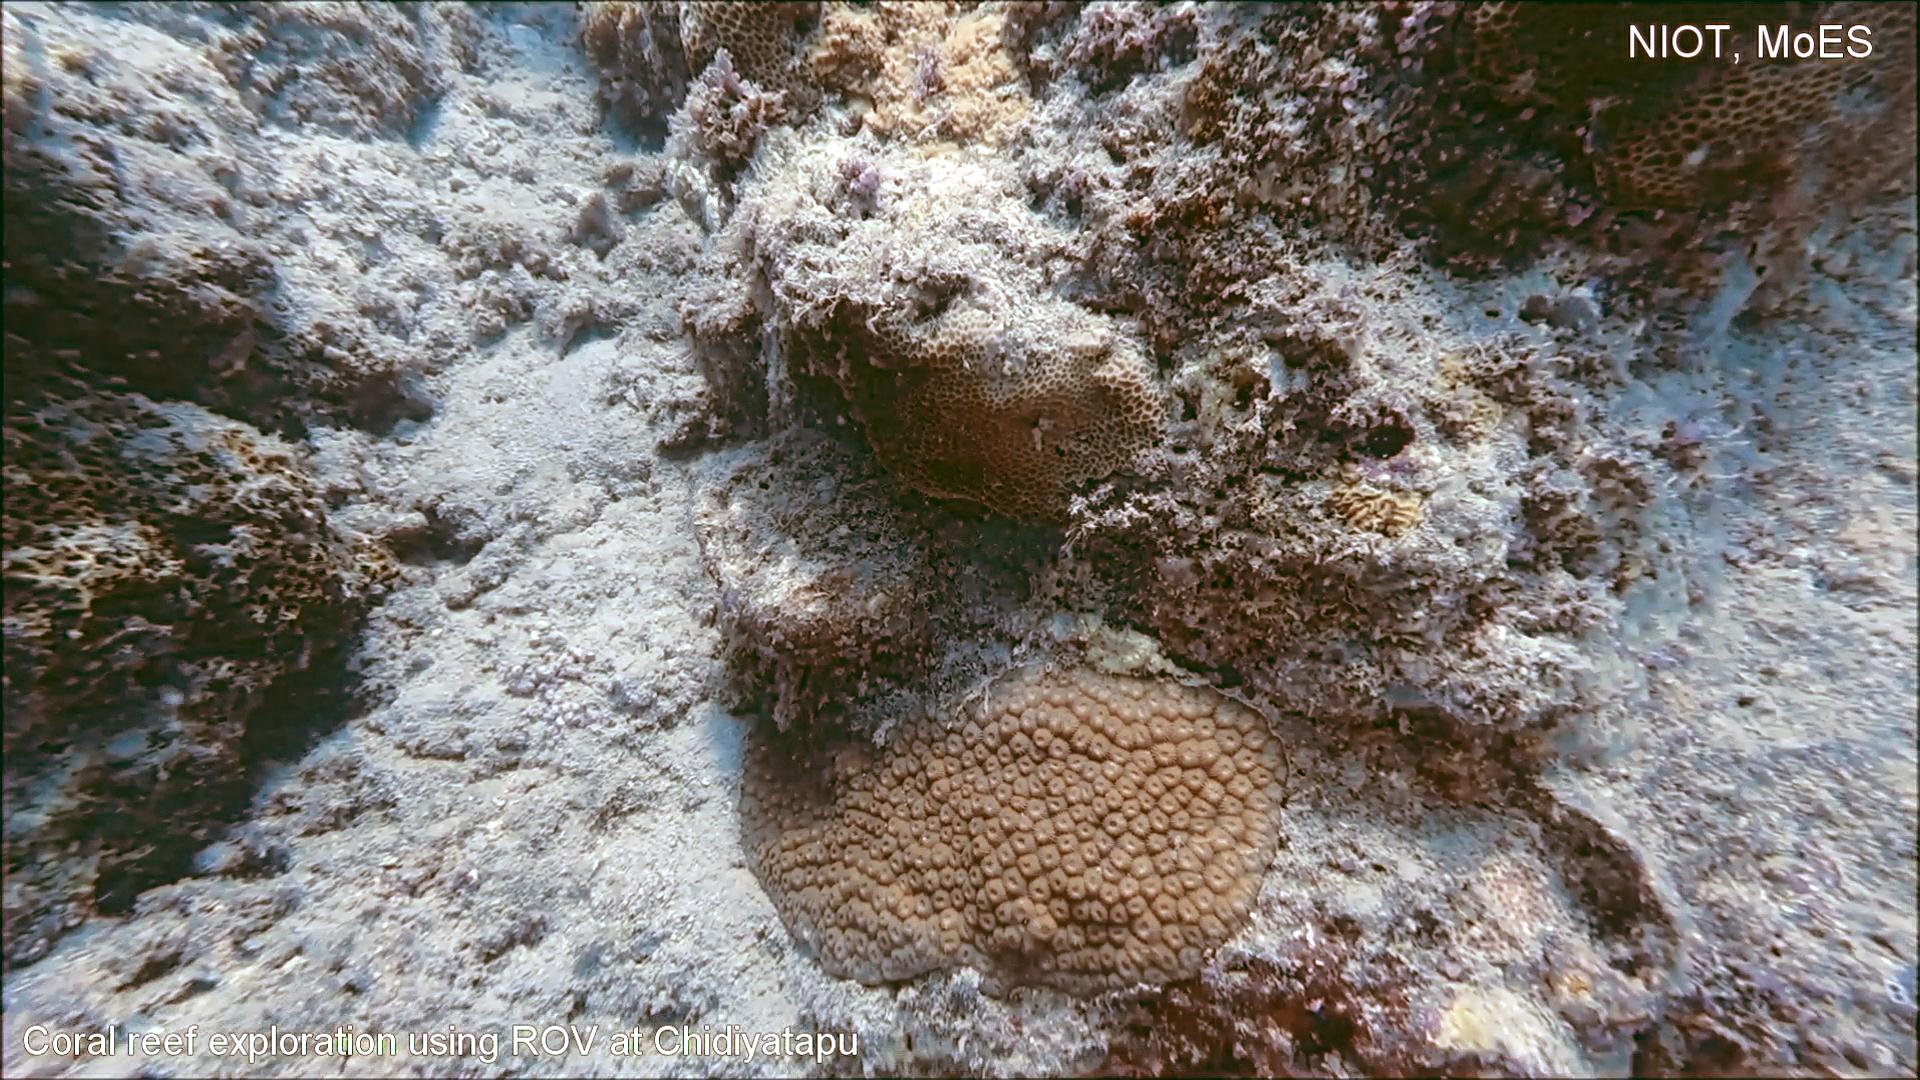Montastraea: (729, 626, 1299, 1015)
